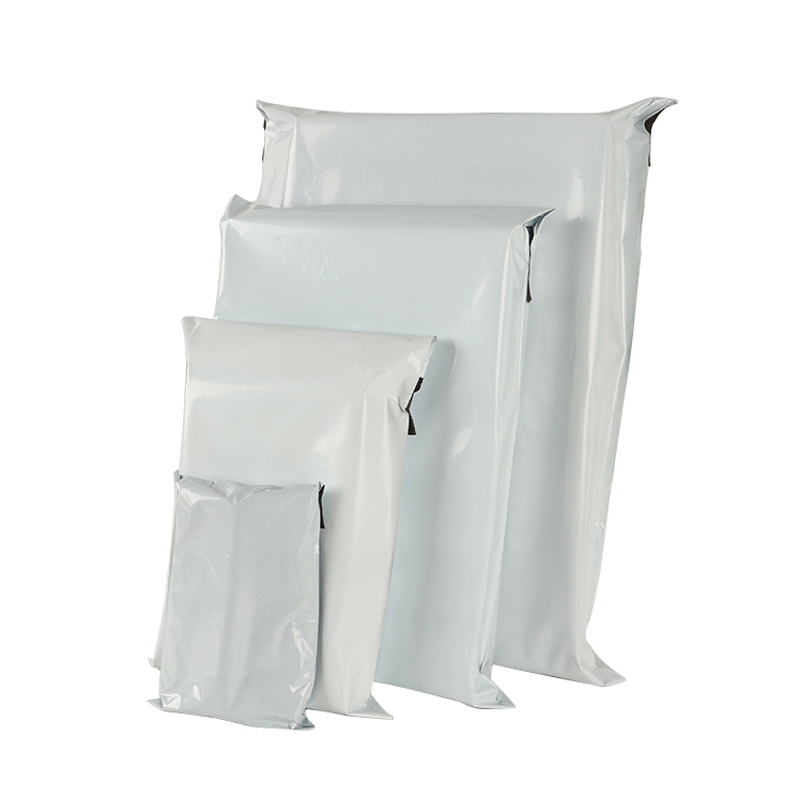Parcel: (211, 59, 669, 684), (191, 188, 542, 723), (151, 316, 433, 717), (149, 474, 330, 730)
